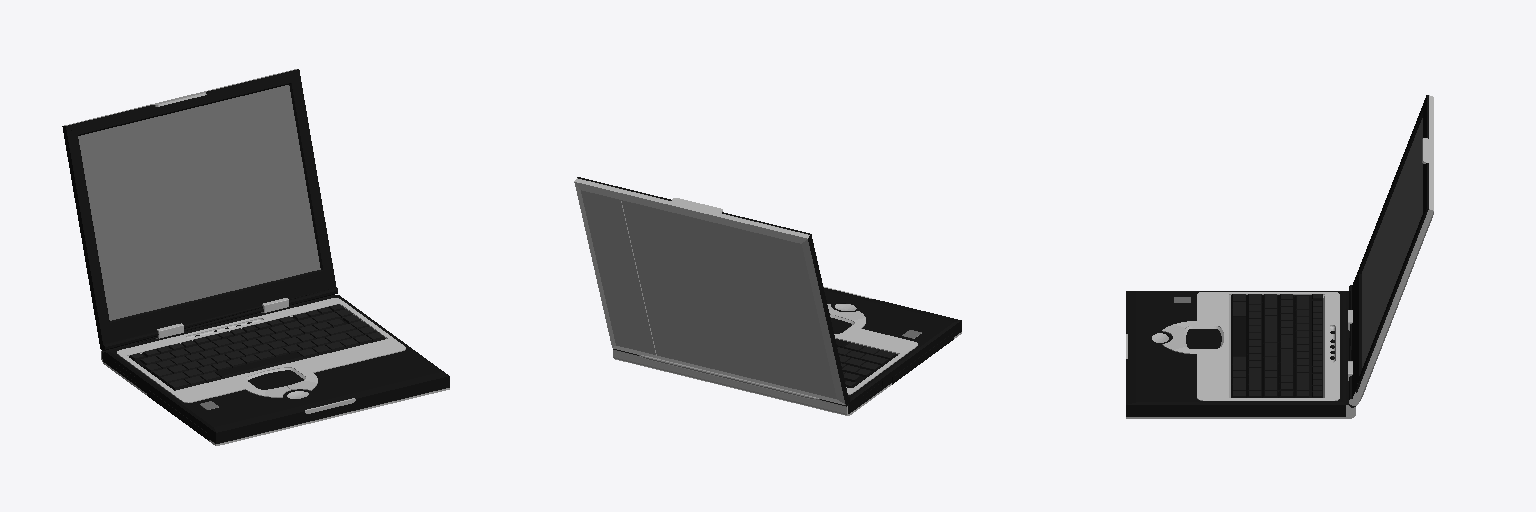
The model's file is tris.obj.
3 views of the same model, side by side, from view 1: azimuth 30°, elevation 25°; view 2: azimuth 150°, elevation 25°; view 3: azimuth 270°, elevation 25° (orthographic).
Parts seen in each view (by area): view 1: notebook02; view 2: notebook02; view 3: notebook02.
Part boxes in pixels (bbox=[...]): notebook02: bbox=[62, 69, 449, 445]; notebook02: bbox=[574, 177, 961, 415]; notebook02: bbox=[1126, 95, 1433, 418].
Size of the model in its own units: 13.39 by 11.58 by 15.29.